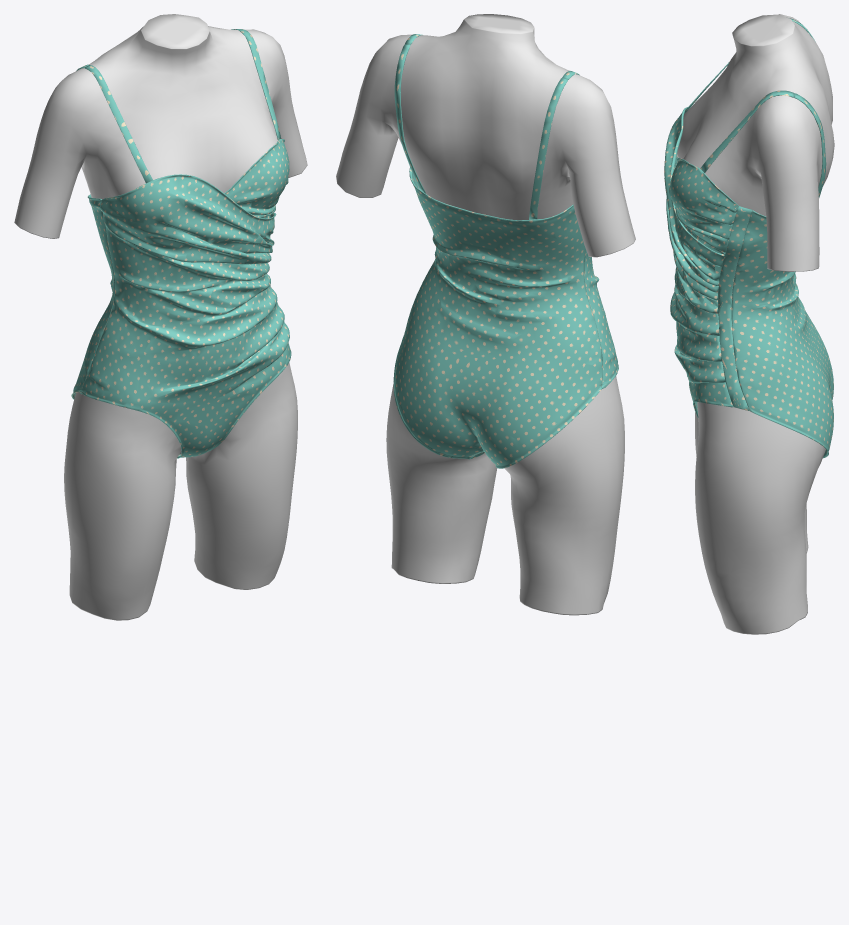
Rendered from Swimsuit_D.gltf.
3 views of the same model, side by side, from view 1: azimuth 30°, elevation 25°; view 2: azimuth 150°, elevation 25°; view 3: azimuth 270°, elevation 25° (orthographic).
Visible parts, largest first — view 1: AvatarMujer_quads, Swimsuit_D_01_Main; view 2: AvatarMujer_quads, Swimsuit_D_01_Main; view 3: AvatarMujer_quads, Swimsuit_D_01_Main.
Part boxes in pixels (x1,y1,x2,y2): AvatarMujer_quads: (14, 14, 307, 620); Swimsuit_D_01_Main: (71, 29, 291, 458); AvatarMujer_quads: (336, 14, 635, 615); Swimsuit_D_01_Main: (393, 34, 618, 468); AvatarMujer_quads: (677, 14, 834, 634); Swimsuit_D_01_Main: (664, 18, 833, 458).
Bounding box in the file's own units: 0.521 × 1.53 × 0.267.
Materials: 2 (1 with a texture image).
